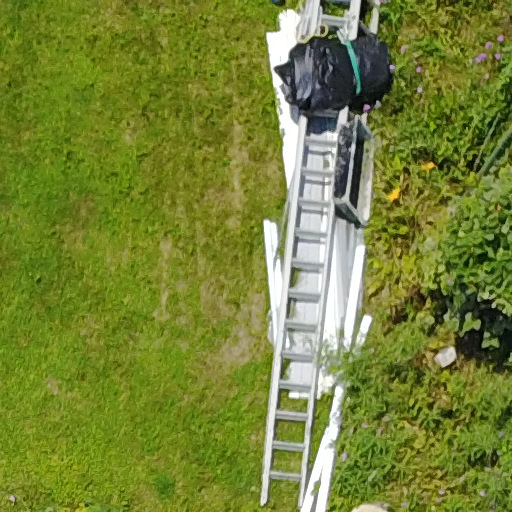container: (324, 111, 380, 232)
ladder: (251, 1, 398, 508)
trash: (266, 14, 425, 134)
